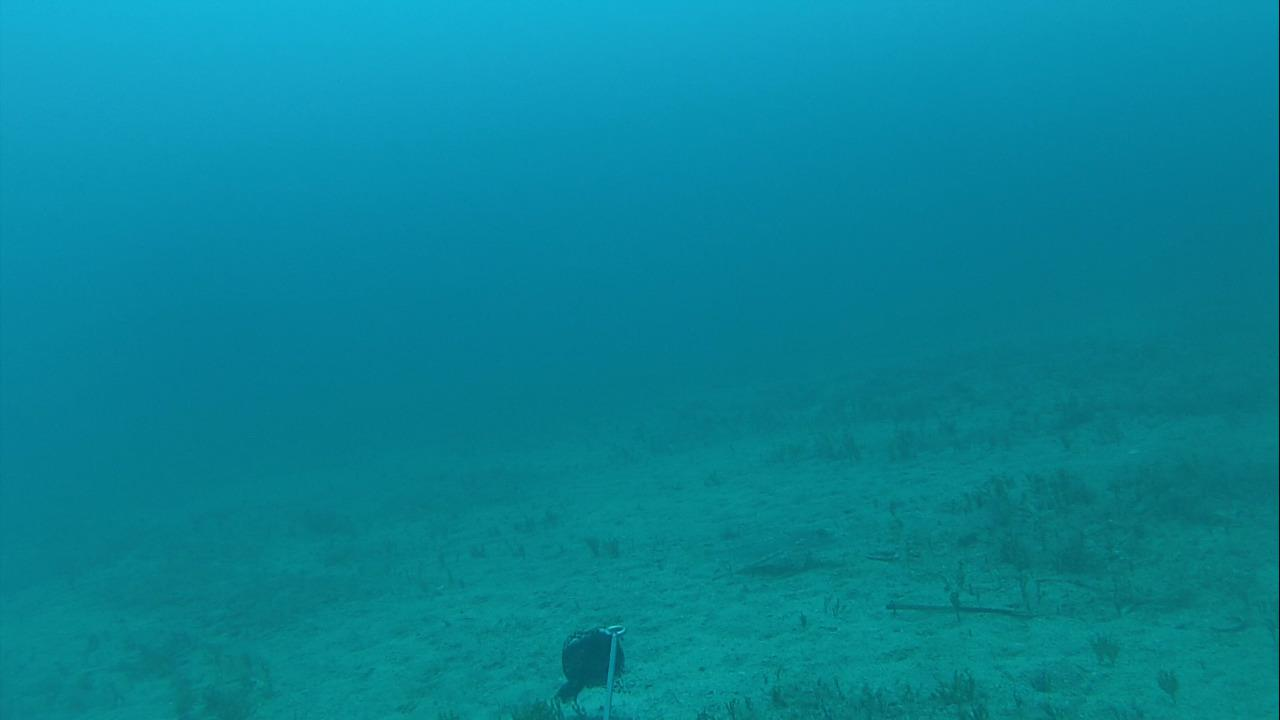dactylopterus: (667, 519, 845, 587)
